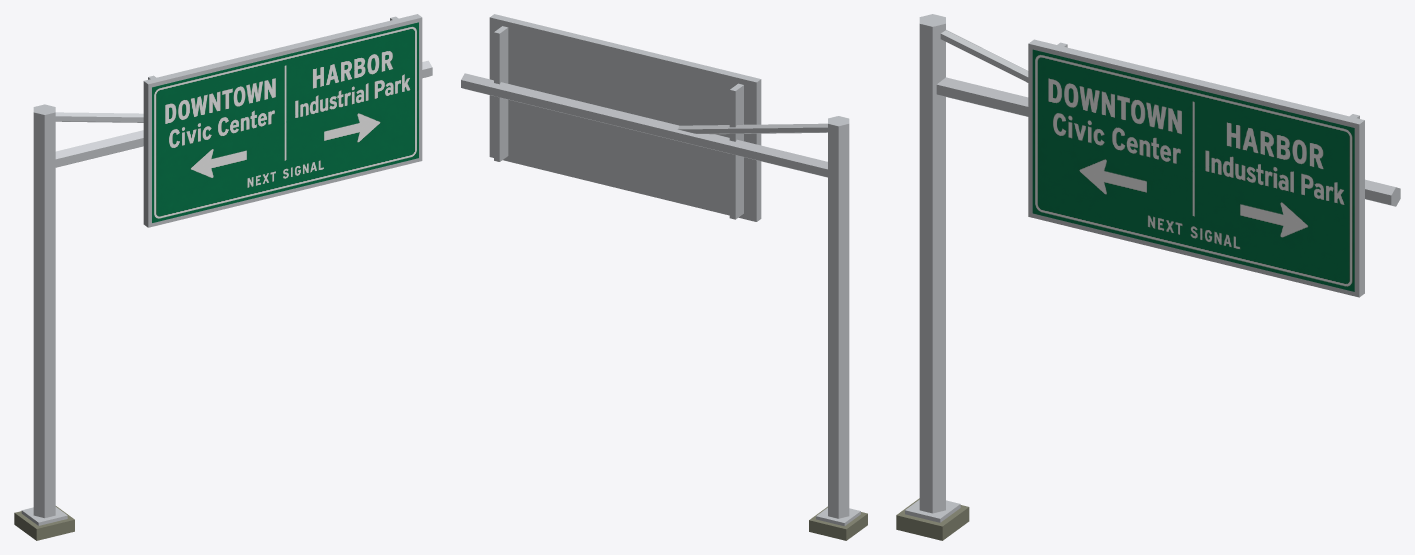
3 views of the same model, side by side, from view 1: azimuth 30°, elevation 25°; view 2: azimuth 150°, elevation 25°; view 3: azimuth 330°, elevation 25° (orthographic). The views are drawn at different scales.
Parts seen in each view (by area): view 1: RoadSign_123; view 2: RoadSign_123; view 3: RoadSign_123.
Part boxes in pixels (<box>): RoadSign_123: <box>14,14,432,540</box>; RoadSign_123: <box>461,14,867,540</box>; RoadSign_123: <box>896,14,1400,540</box>.
Size of the model in its own units: 8.82 by 9 by 0.886.
3 materials, 1 textured.
